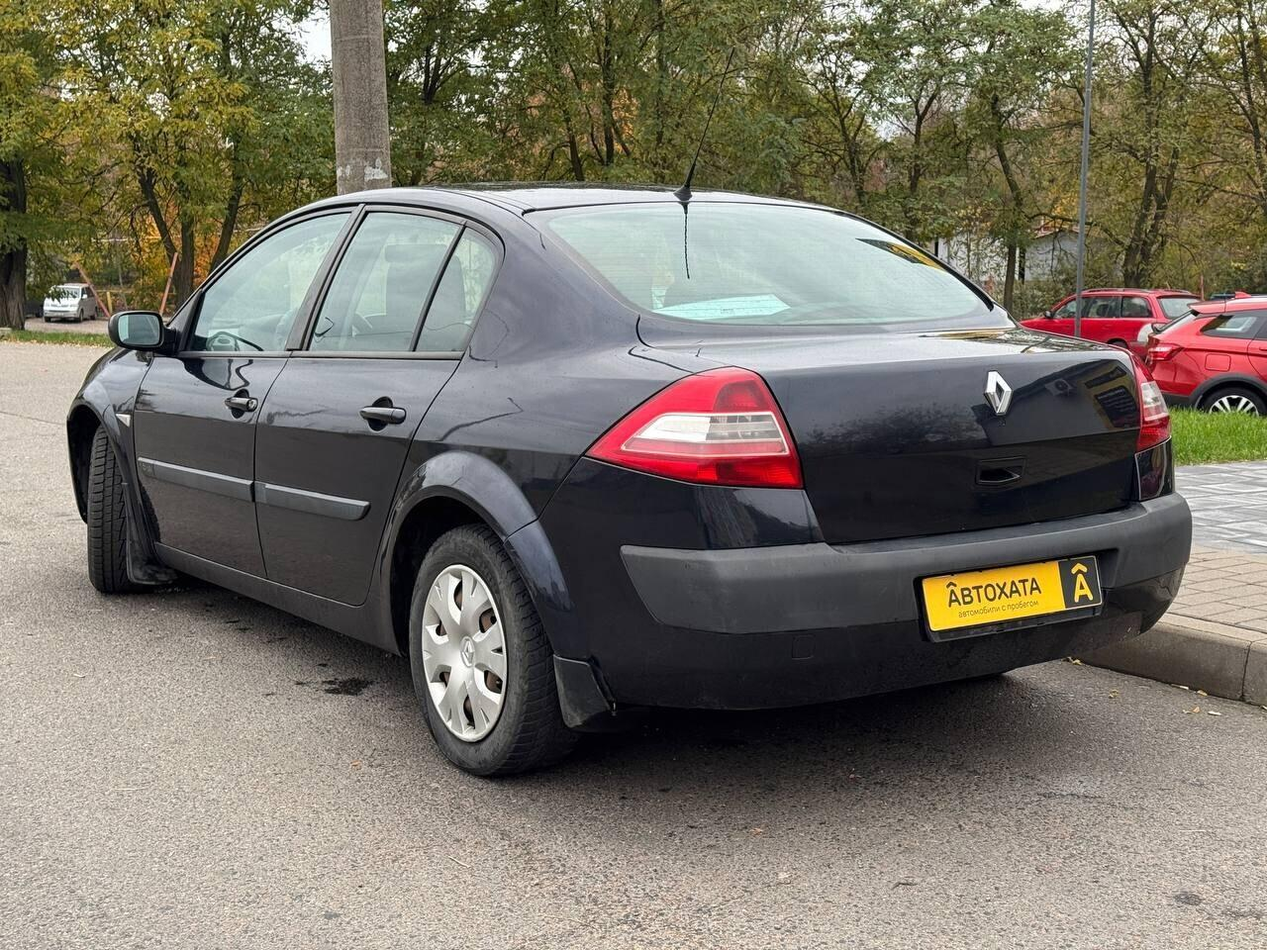Megane_2005-2009: (51, 177, 1210, 785)
